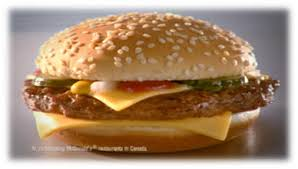hamburger: (20, 11, 283, 158)
